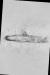N18: (2, 0, 48, 74)
